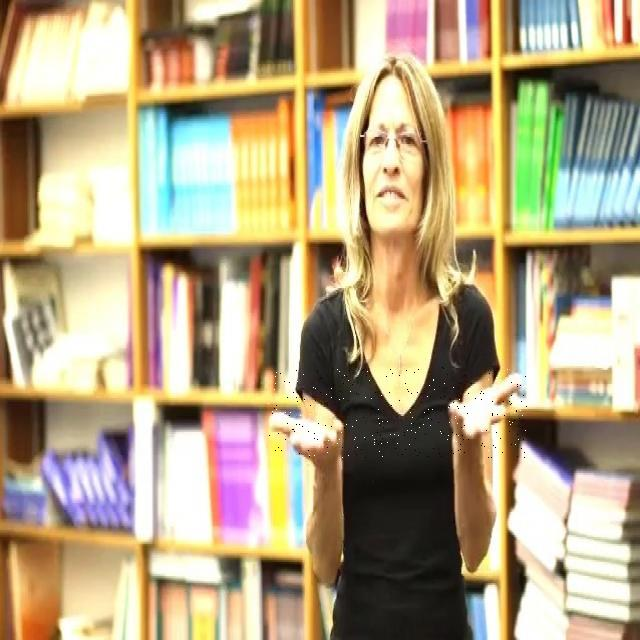what: (268, 366, 528, 458)
